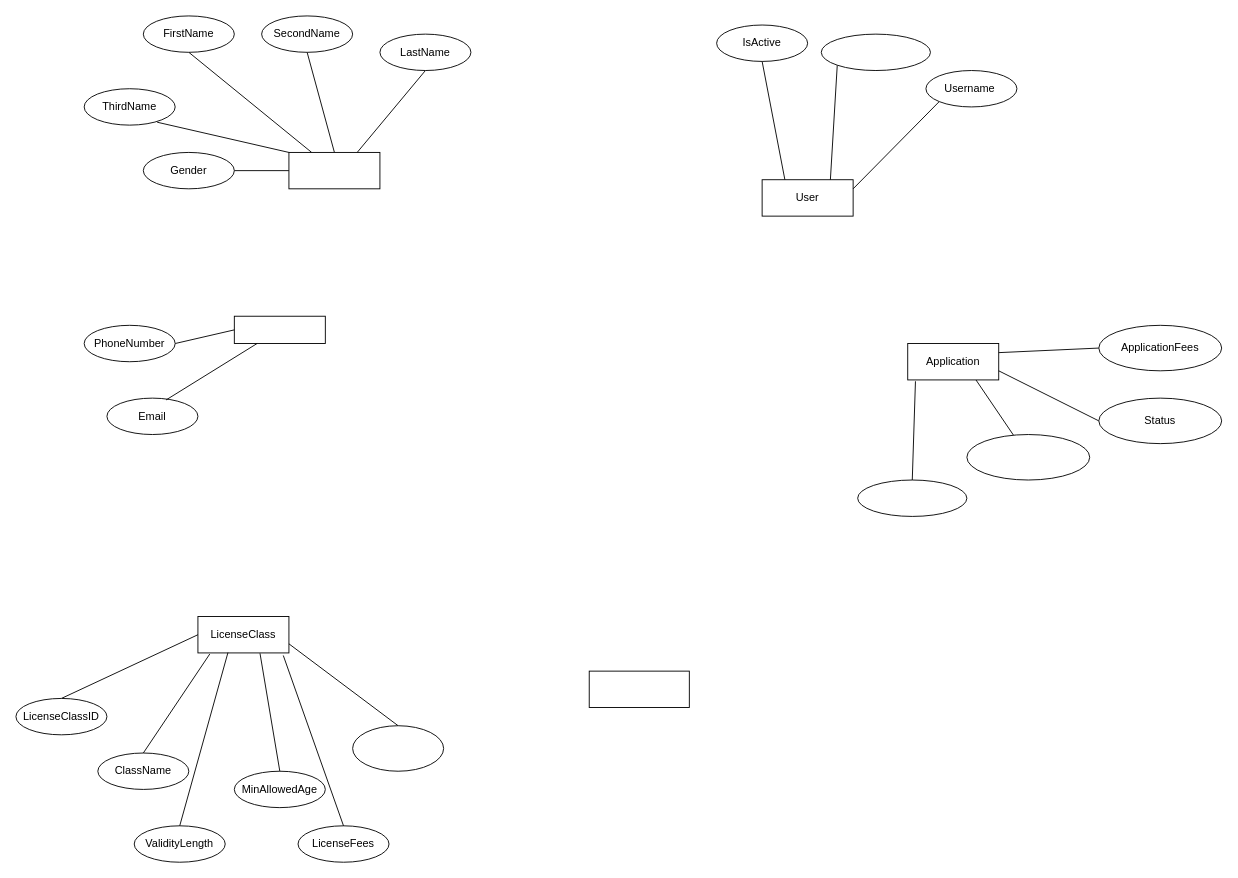
This 1238x878 diagram has some shape labels left out. Here are the shapes that lost their labels. From the top down, the centre of each, then its label:
At [875,52]: "Password(Hashed)".
At [334,170]: "Person".
At [279,329]: "ContactInfo".
At [1028,457]: "ApplicationDate".
At [912,497]: "ApplicationNumber".
At [638,689]: "Exams".
At [398,748]: "ClassDescription".
